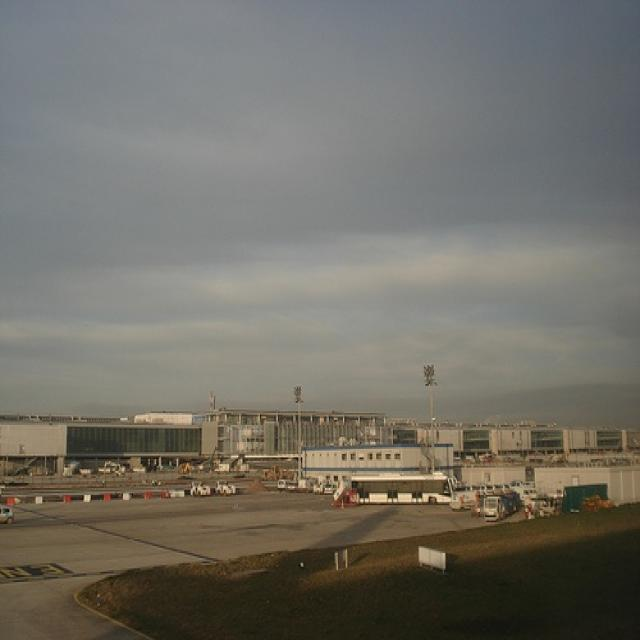bus: (344, 473, 456, 502), (483, 491, 517, 524)
